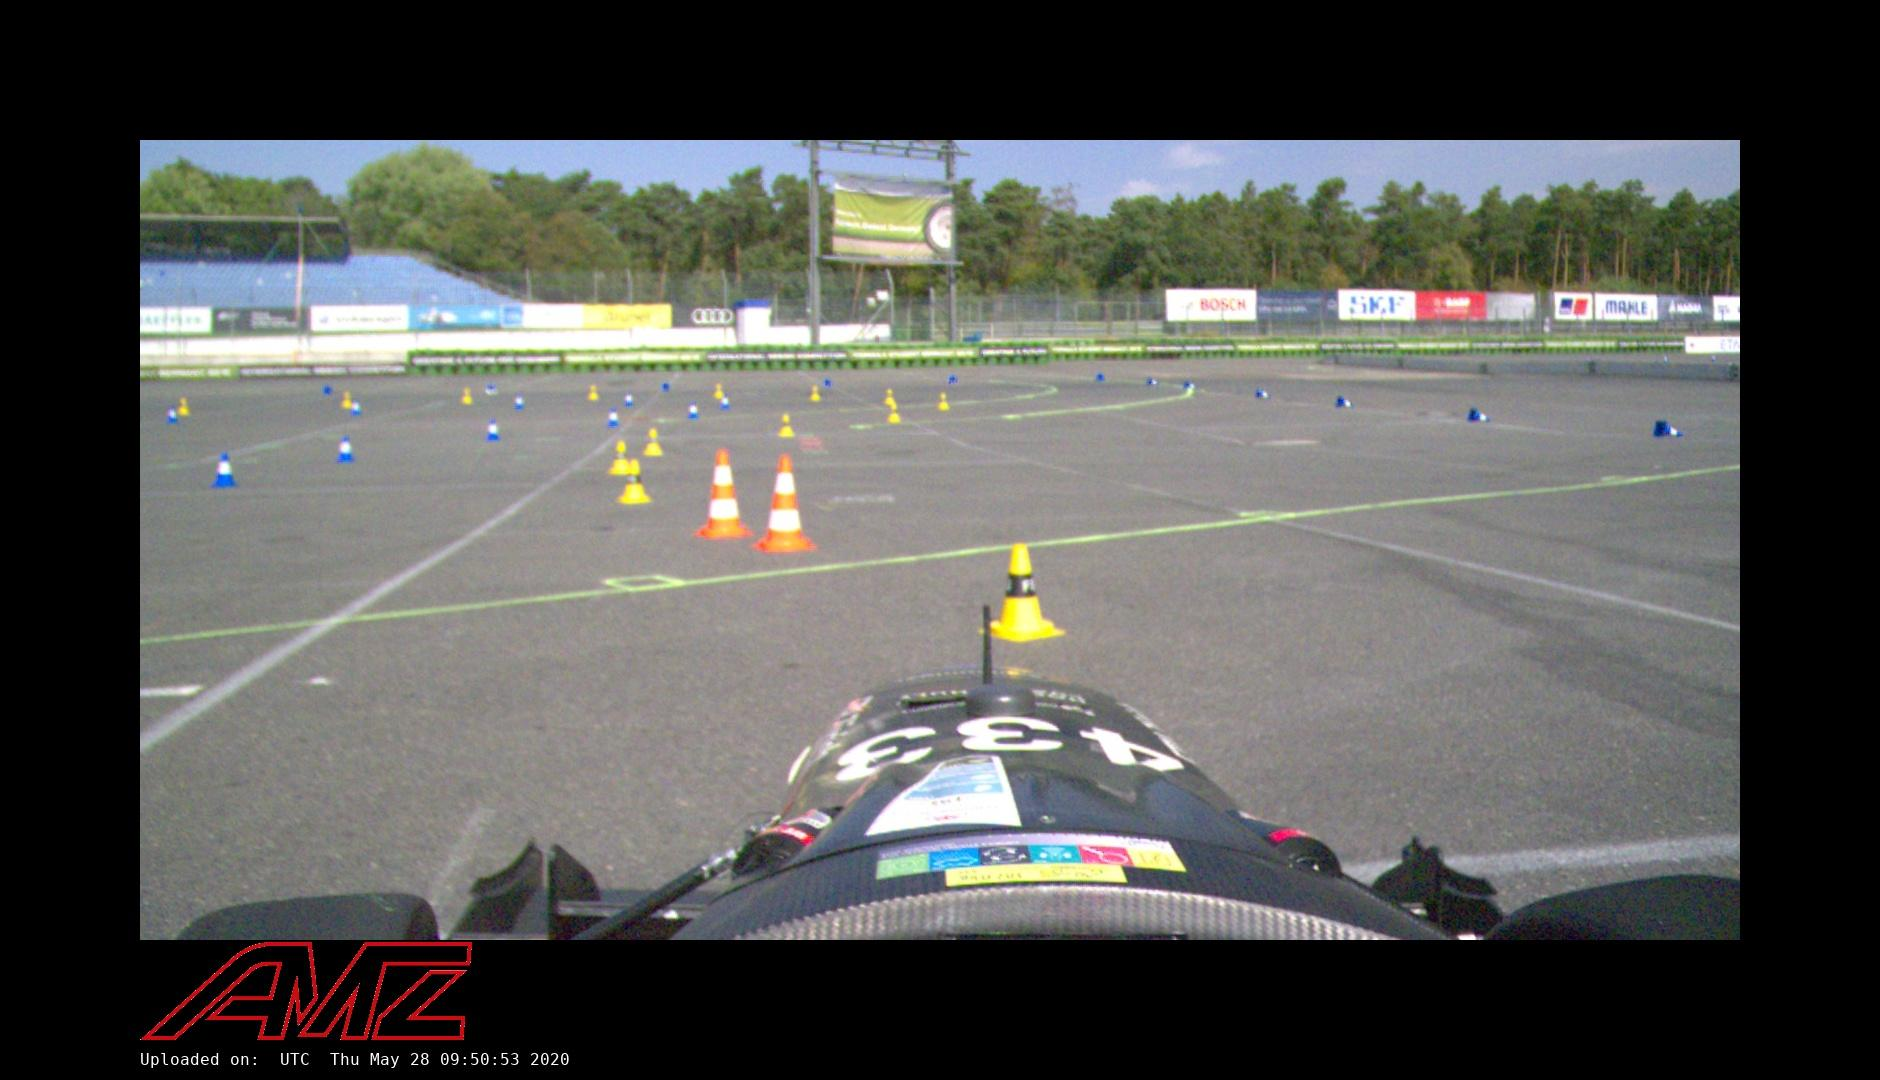blue_cone: (209, 452, 239, 490), (336, 435, 356, 465), (1651, 420, 1684, 438), (1466, 407, 1493, 424), (485, 417, 501, 442), (604, 407, 620, 428), (1334, 395, 1354, 408), (165, 404, 179, 422), (686, 400, 700, 419), (350, 397, 362, 419), (513, 391, 526, 410), (622, 389, 635, 407), (720, 391, 732, 411), (1255, 388, 1271, 399), (1181, 380, 1198, 390), (1147, 377, 1160, 386)
large_orange_cone: (751, 453, 817, 553), (693, 448, 753, 539)
yellow_cone: (979, 543, 1067, 645), (618, 459, 652, 504), (609, 441, 634, 475), (643, 428, 662, 456), (777, 412, 795, 437), (887, 402, 903, 422), (936, 391, 950, 412), (340, 391, 352, 408), (460, 388, 473, 404), (711, 382, 724, 399), (178, 398, 190, 416), (883, 388, 895, 406), (587, 384, 599, 400), (810, 385, 821, 402)
